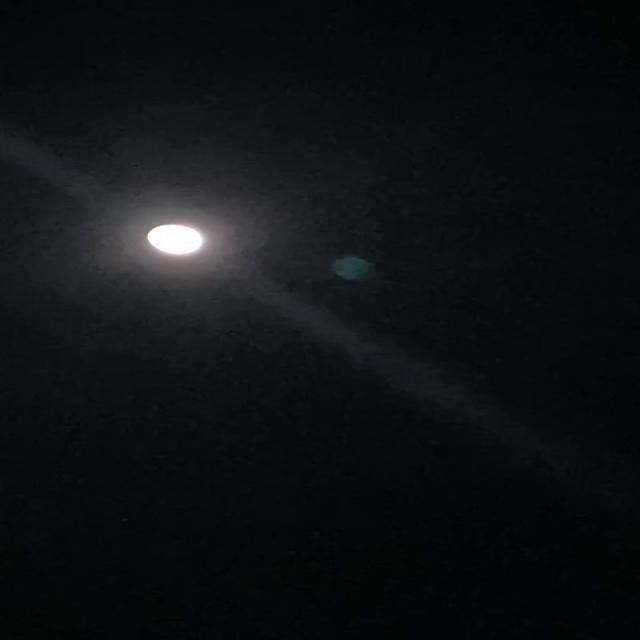moon: (135, 218, 213, 260)
